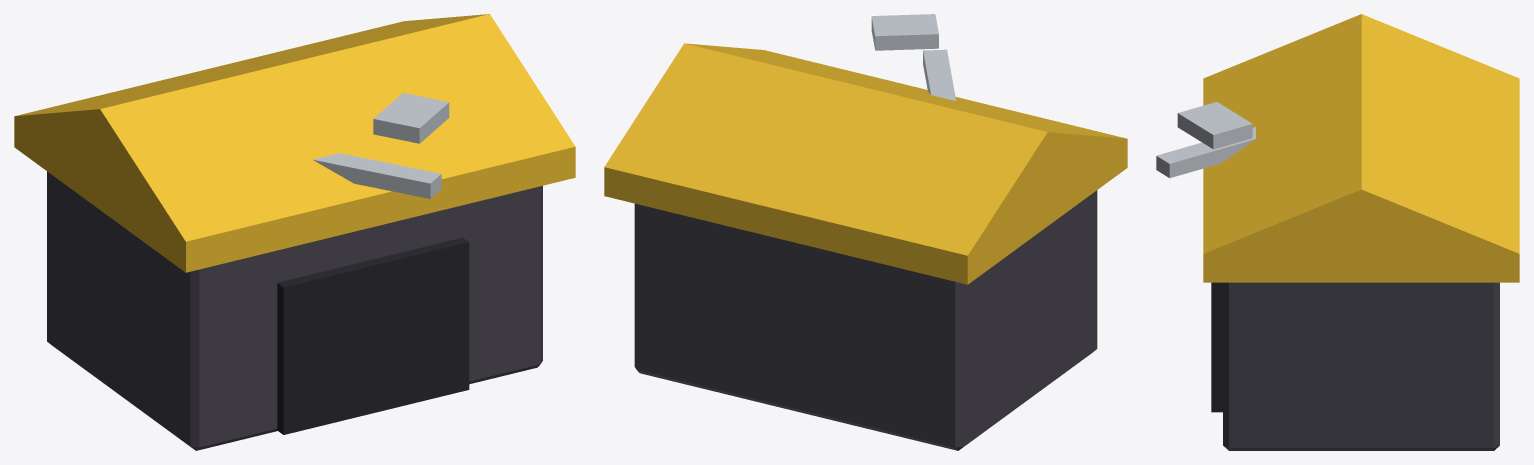
Rendered from garage.glb.
3 views of the same model, side by side, from view 1: azimuth 30°, elevation 25°; view 2: azimuth 150°, elevation 25°; view 3: azimuth 270°, elevation 25° (orthographic). The views are drawn at different scales.
Visible parts, largest first — view 1: garage; view 2: garage; view 3: garage.
Part boxes in pixels (x1,y1,x2,y2): garage: [14, 14, 575, 450]; garage: [604, 14, 1127, 450]; garage: [1156, 14, 1519, 450].
Bounding box in the file's own units: 1.05 × 0.76 × 0.919.
